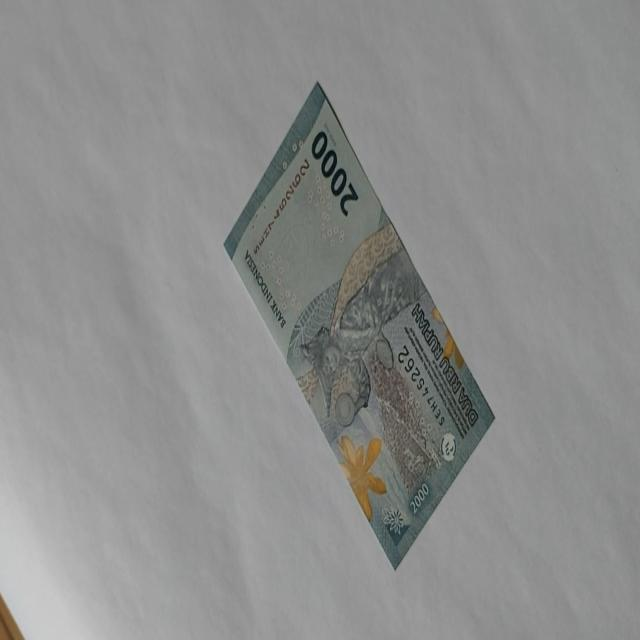dua ribu rupiah: (222, 79, 496, 571), (337, 432, 387, 522)
